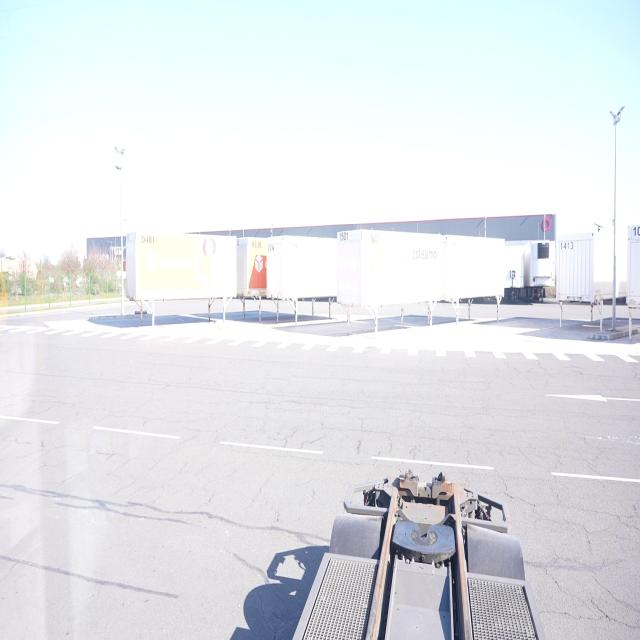Code: (138, 230, 158, 252), (557, 237, 578, 254), (249, 232, 263, 255), (337, 229, 349, 244)
